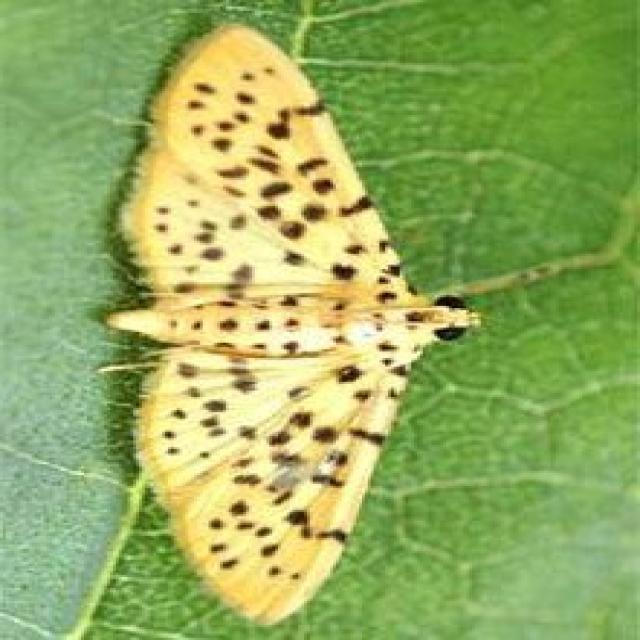peach borer: (91, 21, 479, 633)
